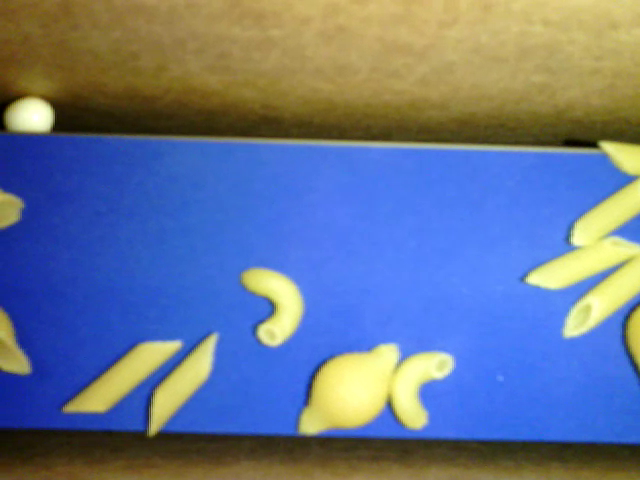elbow: (240, 265, 305, 348), (389, 351, 453, 430)
penne: (62, 340, 182, 414), (148, 332, 217, 439), (525, 235, 639, 292), (563, 254, 639, 339), (570, 176, 639, 247), (598, 140, 639, 176)
shell: (298, 342, 399, 436), (1, 306, 32, 375)
